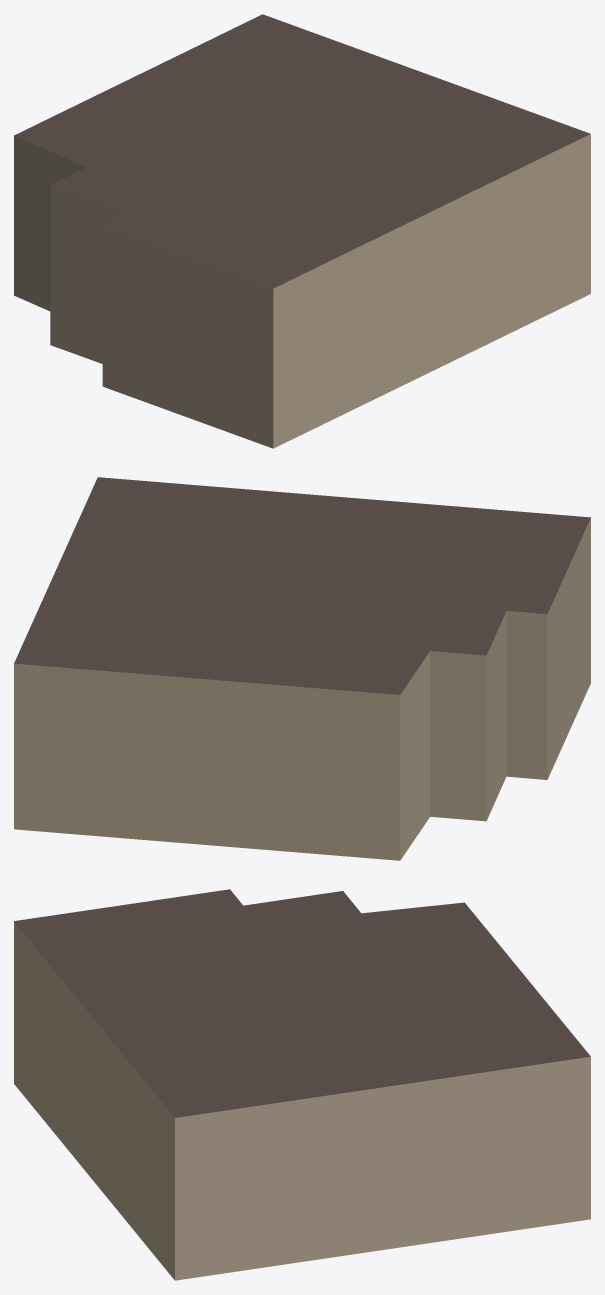
3 renders of one model, top to bottom at view 1: azimuth 30°, elevation 25°; view 2: azimuth 150°, elevation 25°; view 3: azimuth 270°, elevation 25°, orthographic. The views are drawn at different scales.
Visible parts, largest first — view 1: HP-w372180528; view 2: HP-w372180528; view 3: HP-w372180528.
Part boxes in pixels (bbox=[...]): HP-w372180528: bbox=[14, 14, 590, 448]; HP-w372180528: bbox=[14, 477, 590, 860]; HP-w372180528: bbox=[14, 889, 590, 1280].
Size of the model in its own units: 27.14 by 9 by 28.93.
